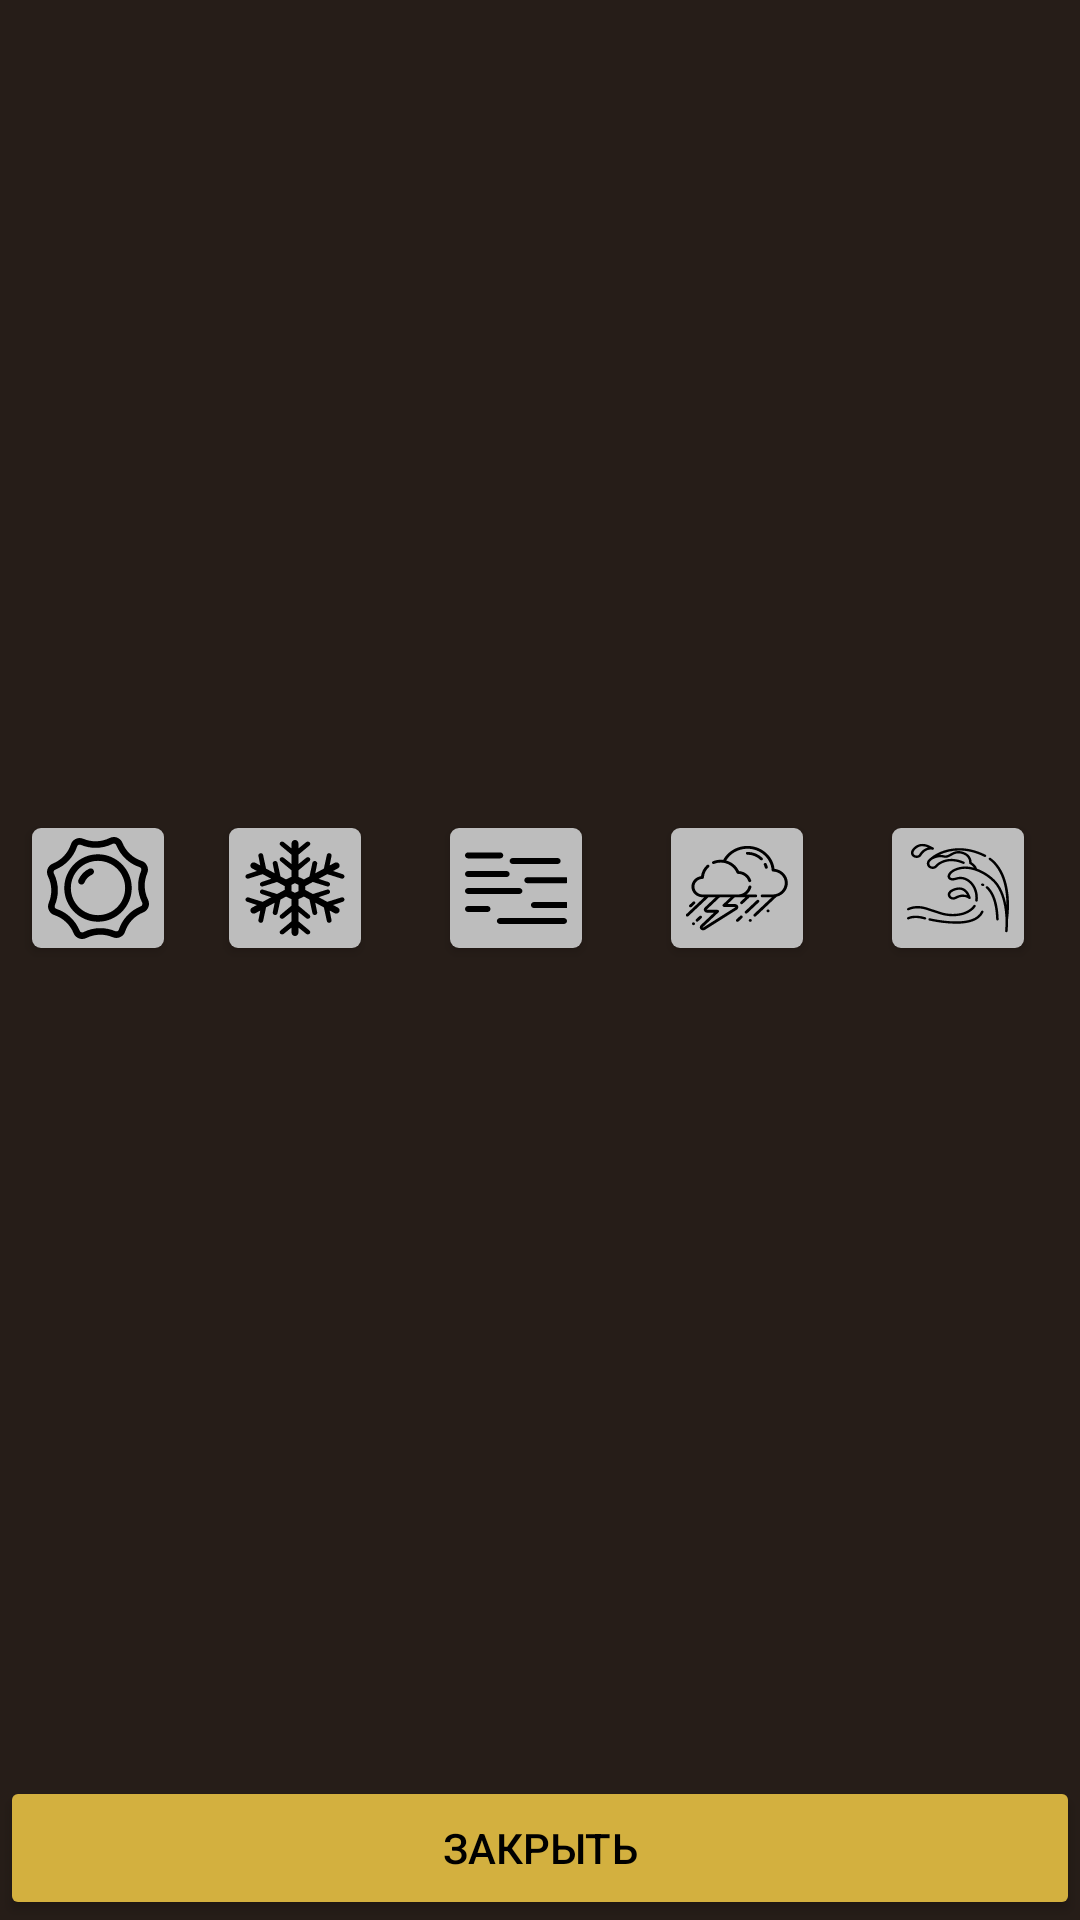

Point at icon controls on the screen. Image size 1080*1920, points as (x,y).
clear: (98,888)
fog: (516,888)
frost: (295,888)
rain: (737,888)
